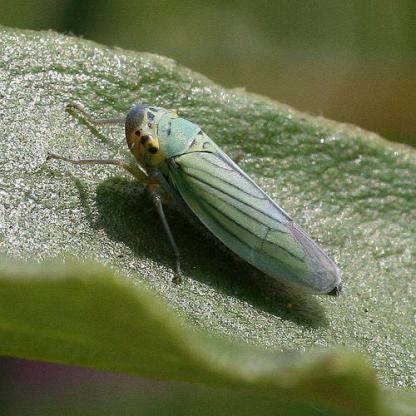Green-Leafhopper: (52, 93, 342, 304)
